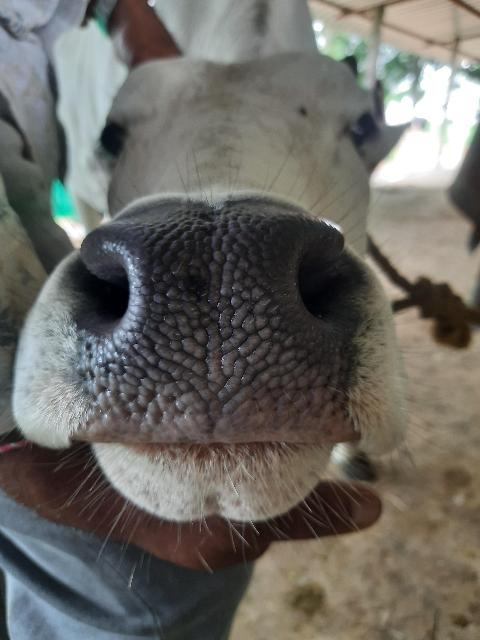Muzzle: (85, 226, 347, 438)
